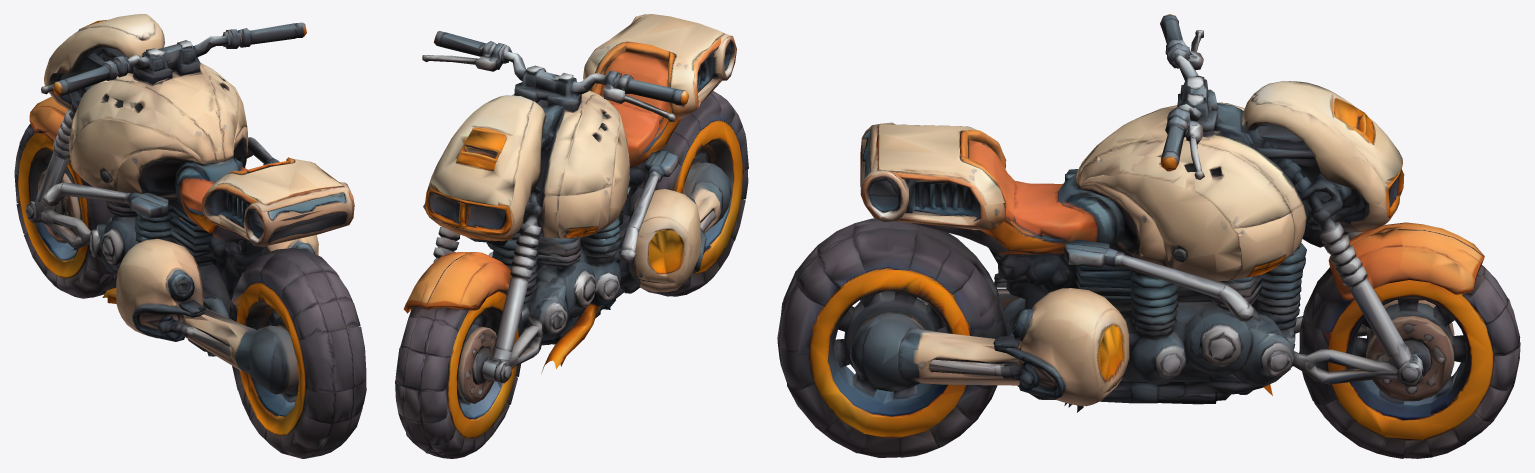
File: Car.fbx
3 renders of one model, left to right at view 1: azimuth 30°, elevation 25°; view 2: azimuth 150°, elevation 25°; view 3: azimuth 270°, elevation 25°, orthographic. The views are drawn at different scales.
Visible parts, largest first — view 1: LOD0; view 2: LOD0; view 3: LOD0.
Boxes of the visible parts, x1,y1,x2,y2 form: LOD0: (14, 14, 366, 458); LOD0: (395, 14, 748, 458); LOD0: (777, 14, 1520, 458).
Size of what is drawn, in the model's own units: 1.2 by 1.46 by 2.6.
